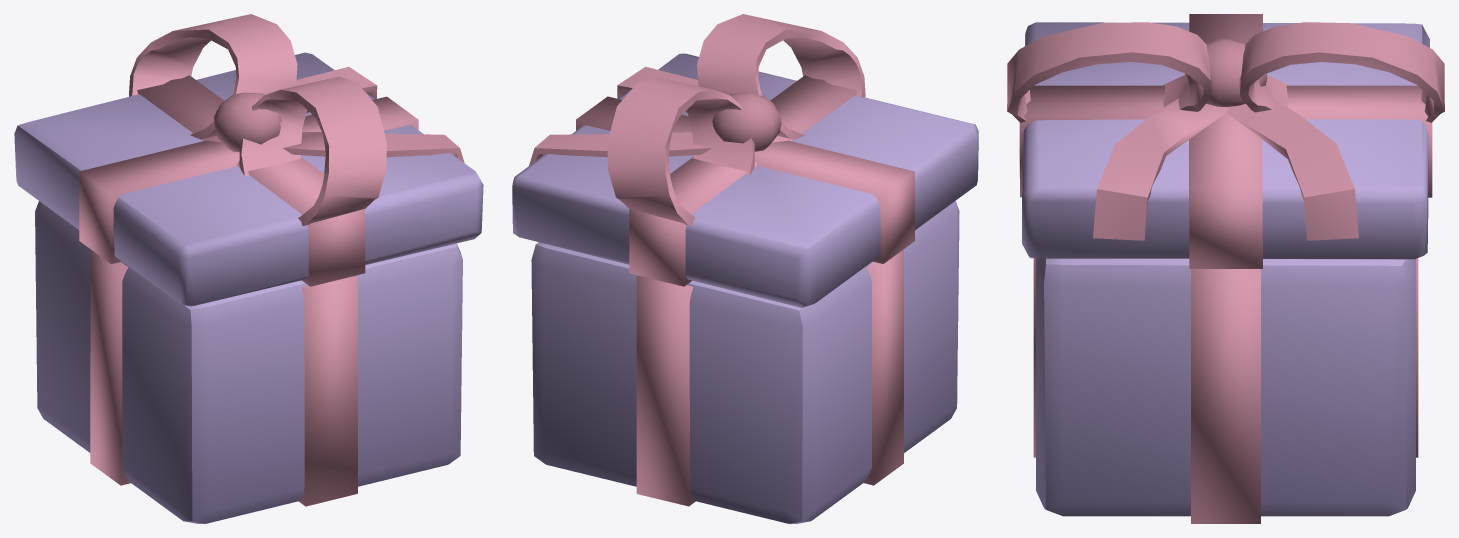
File: W4_GiftBox_B_lod1.fbx
3 renders of one model, left to right at view 1: azimuth 30°, elevation 25°; view 2: azimuth 150°, elevation 25°; view 3: azimuth 270°, elevation 25°, orthographic. The views are drawn at different scales.
Visible parts, largest first — view 1: W4_GiftBox_B.001; view 2: W4_GiftBox_B.001; view 3: W4_GiftBox_B.001.
Boxes of the visible parts, x1=… form: W4_GiftBox_B.001: x1=14, y1=14, x2=483, y2=523; W4_GiftBox_B.001: x1=512, y1=14, x2=978, y2=523; W4_GiftBox_B.001: x1=1007, y1=14, x2=1444, y2=523.
Size of the model in its own units: 0.2474 by 0.2766 by 0.2533.
